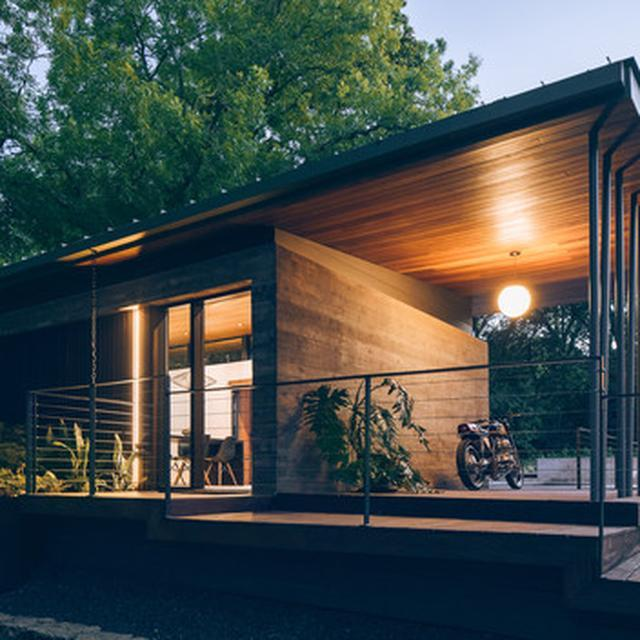building: (0, 58, 640, 615)
